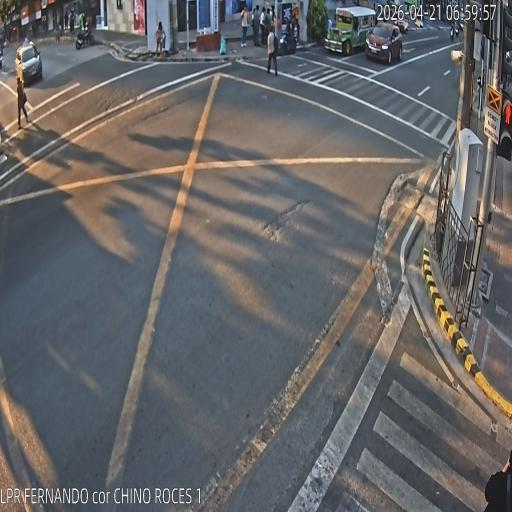Car: (365, 22, 402, 64), (15, 42, 42, 88)
Motor: (75, 25, 94, 49), (450, 28, 454, 41), (455, 27, 459, 38)
